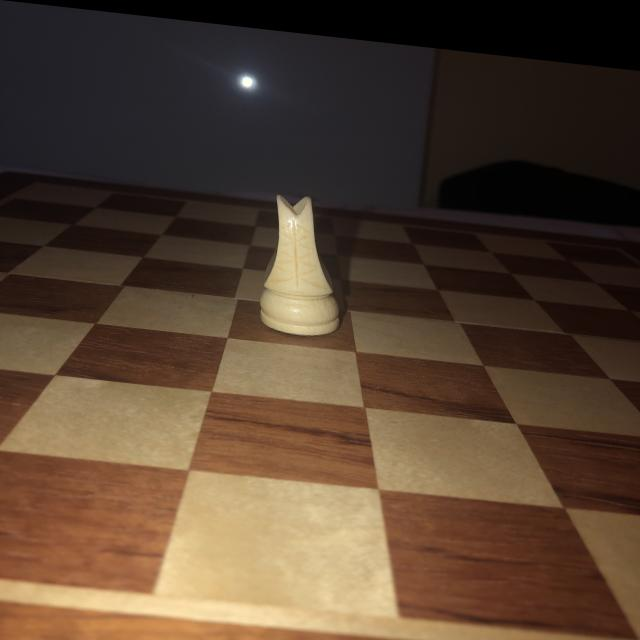white_knight: (255, 184, 346, 336)
